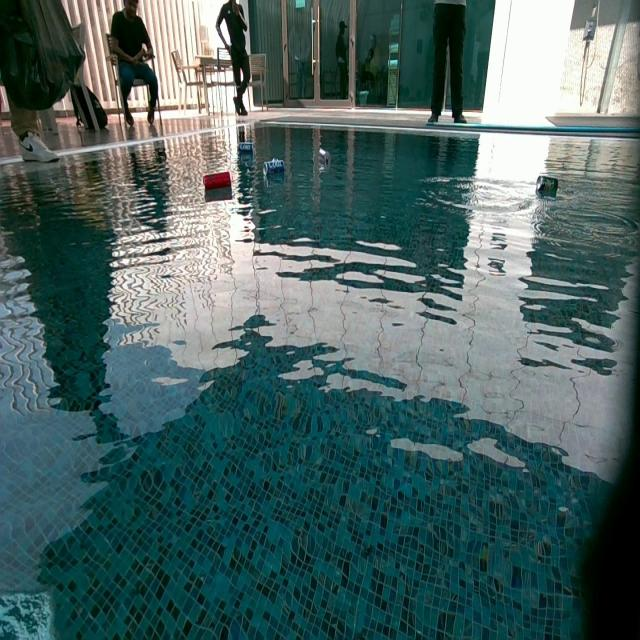Cans: (204, 172, 232, 190), (534, 175, 558, 196), (265, 159, 286, 177), (318, 149, 330, 167), (237, 143, 252, 155)
